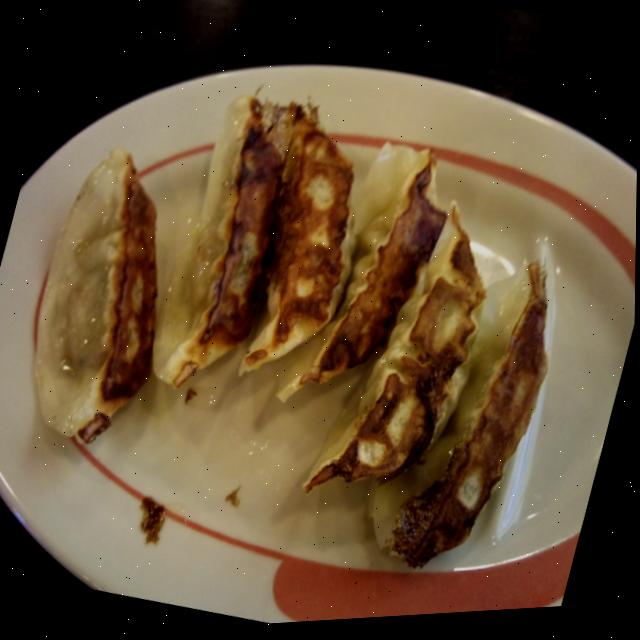带馅早点: (0, 0, 636, 606)
